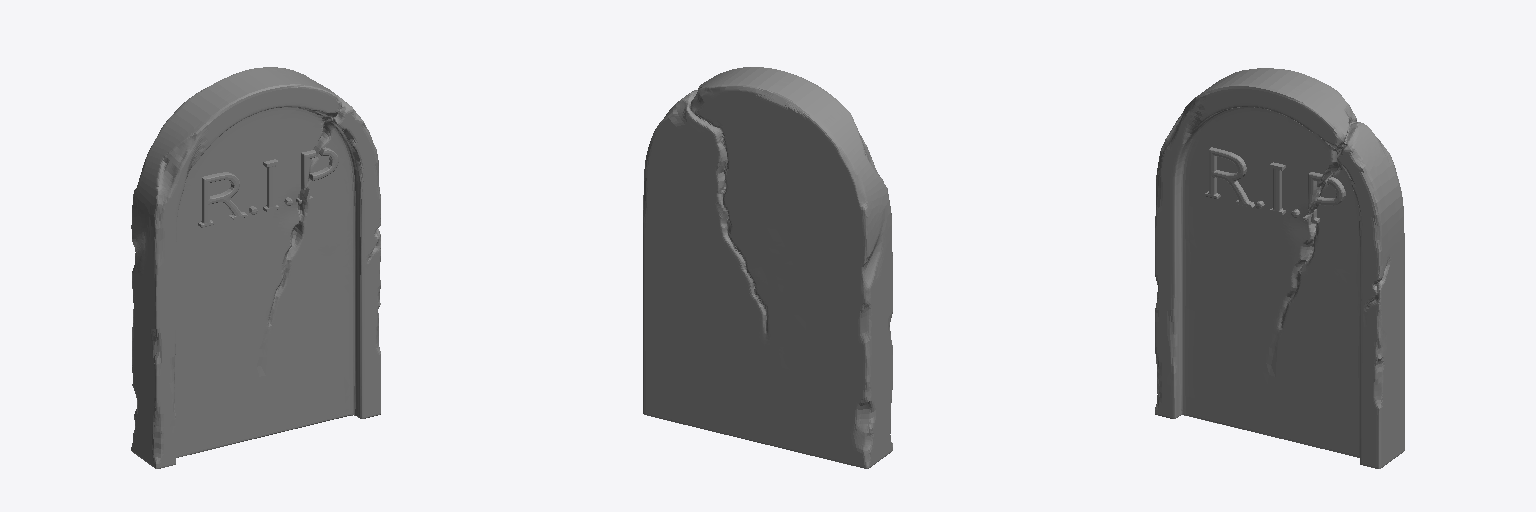
The model's file is RIP.obj.
3 views of the same model, side by side, from view 1: azimuth 30°, elevation 25°; view 2: azimuth 150°, elevation 25°; view 3: azimuth 330°, elevation 25° (orthographic).
Parts seen in each view (by area): view 1: 17145_Gravestone_cracked; view 2: 17145_Gravestone_cracked; view 3: 17145_Gravestone_cracked.
Boxes of the visible parts, x1=… form: 17145_Gravestone_cracked: x1=131, y1=67, x2=380, y2=468; 17145_Gravestone_cracked: x1=643, y1=67, x2=892, y2=468; 17145_Gravestone_cracked: x1=1155, y1=68, x2=1404, y2=468.
Bounding box in the file's own units: 5.35 × 8.02 × 1.07.